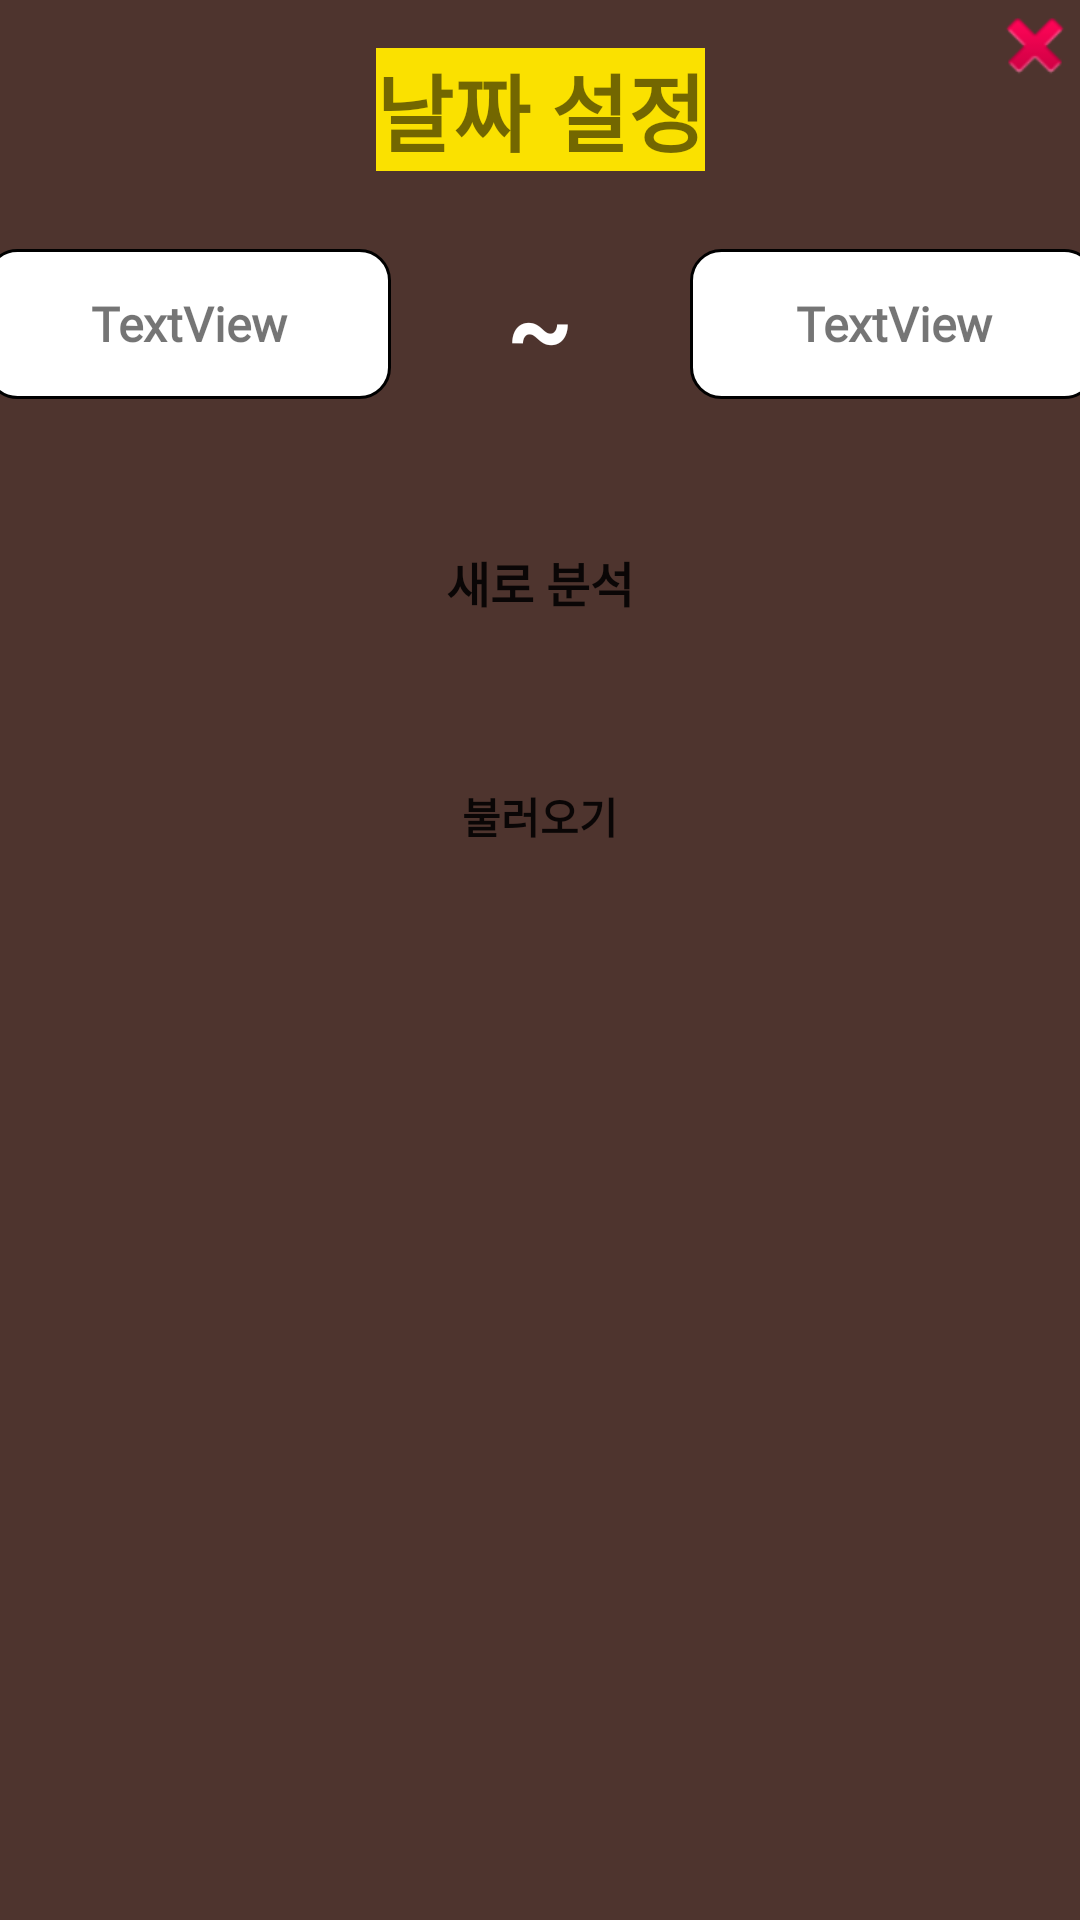

Icon bounding boxes for this 1080px×1920px phone screenshot, format (x1, y1, x2, y2):
delete: (1007, 18, 1063, 73)
